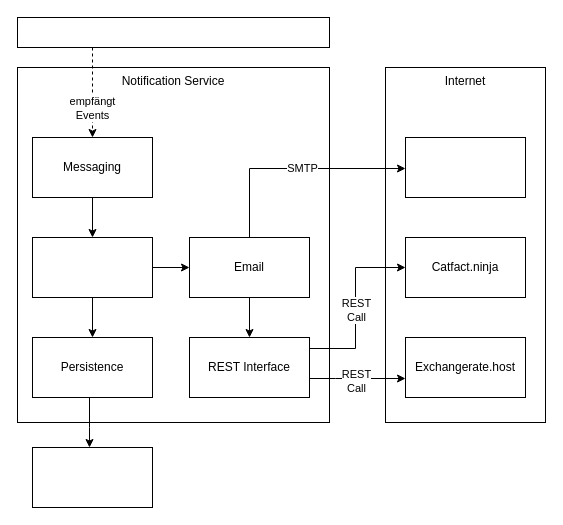
Image size: 563x525. Some labels were removed from this diagram. The shapes that lost their labels are listed below. From the top down, each one's centre as x and y in pixels, then its label:
At pixel 173 32: "RabbitMQ".
At pixel 465 167: "Google".
At pixel 92 267: "Application".
At pixel 92 477: "Notification DB (Maria DB)".
